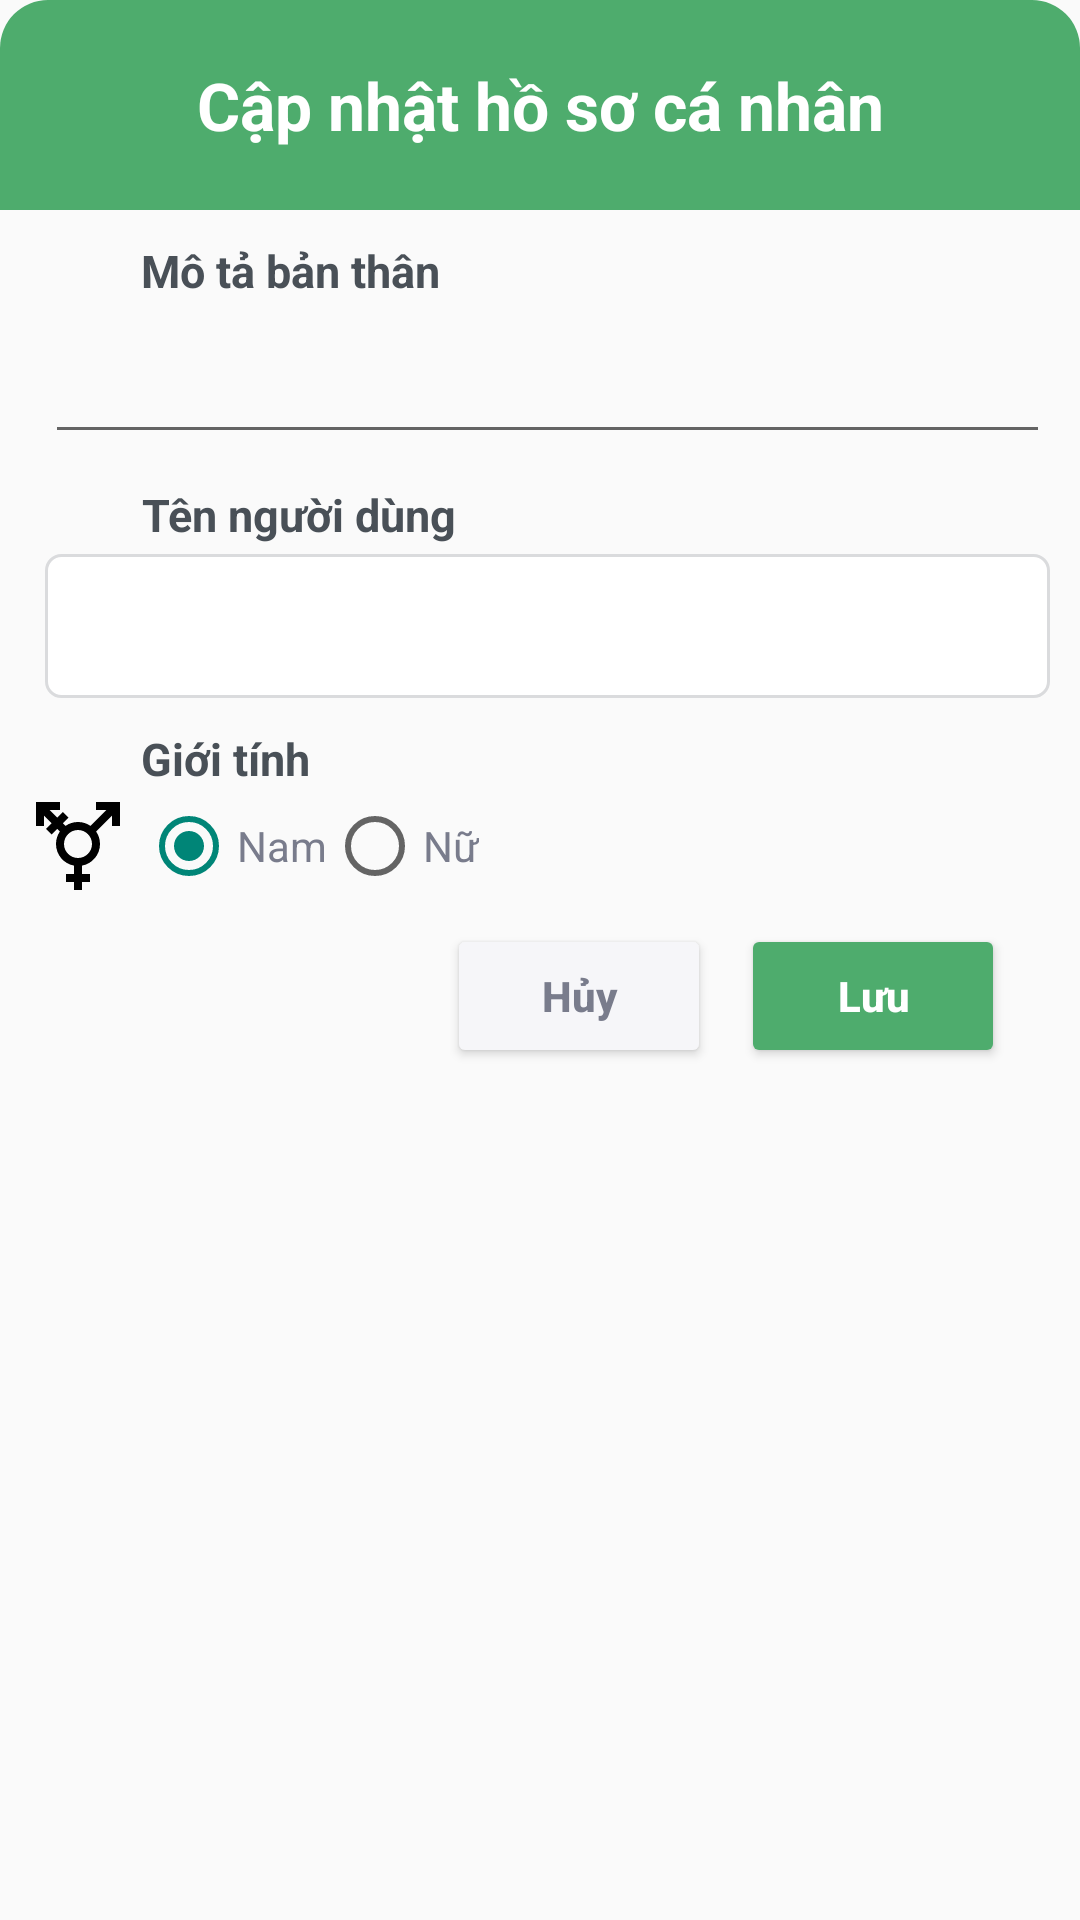

Named icons in this screenshot (1080*1920) and their bounding boxes, (x1, y1, x2, y2):
gender: (36, 802, 120, 890)
